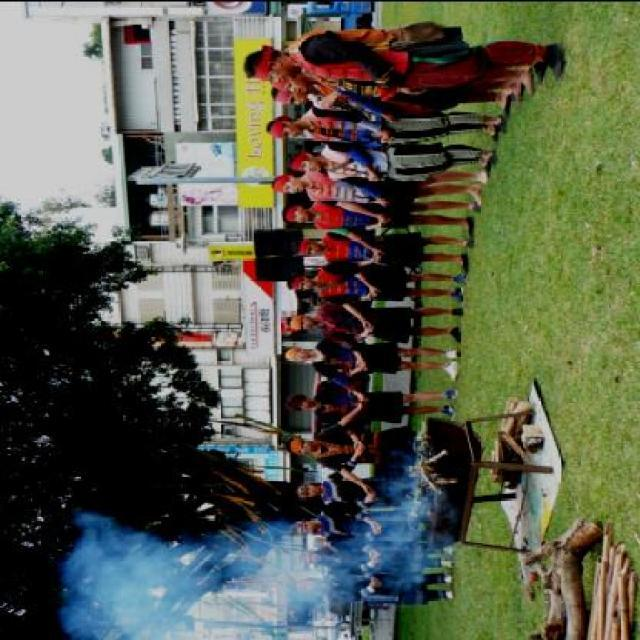Smoke: (59, 462, 453, 640)
